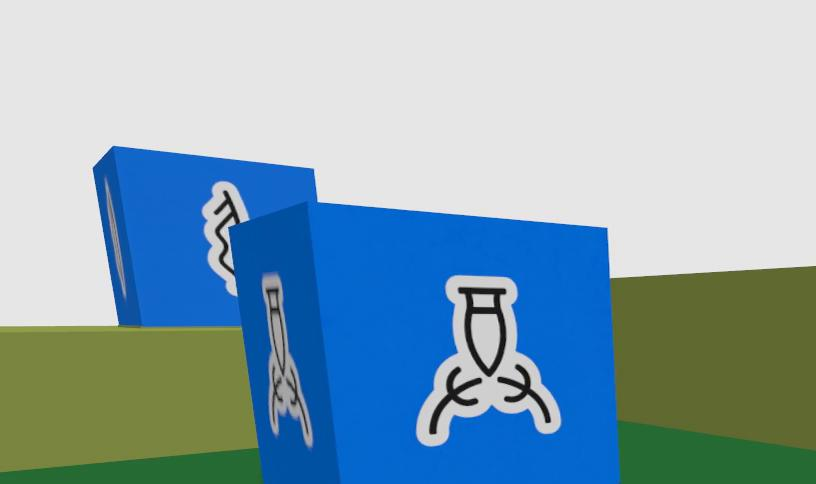KFS_REAL: (231, 202, 619, 484), (93, 147, 316, 326), (416, 276, 561, 446), (263, 273, 311, 447), (202, 181, 248, 295)
